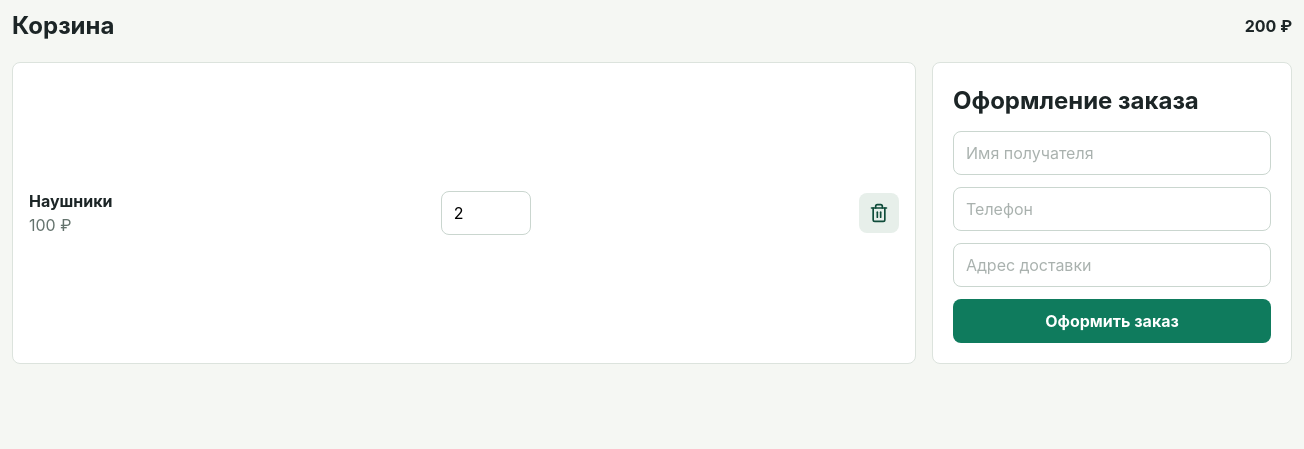
Test: CartPage › проверяет данные заказа перед отправкой
Step 1. Click the button "Оформить заказ" → (1112, 321), box [953,299,1271,343]
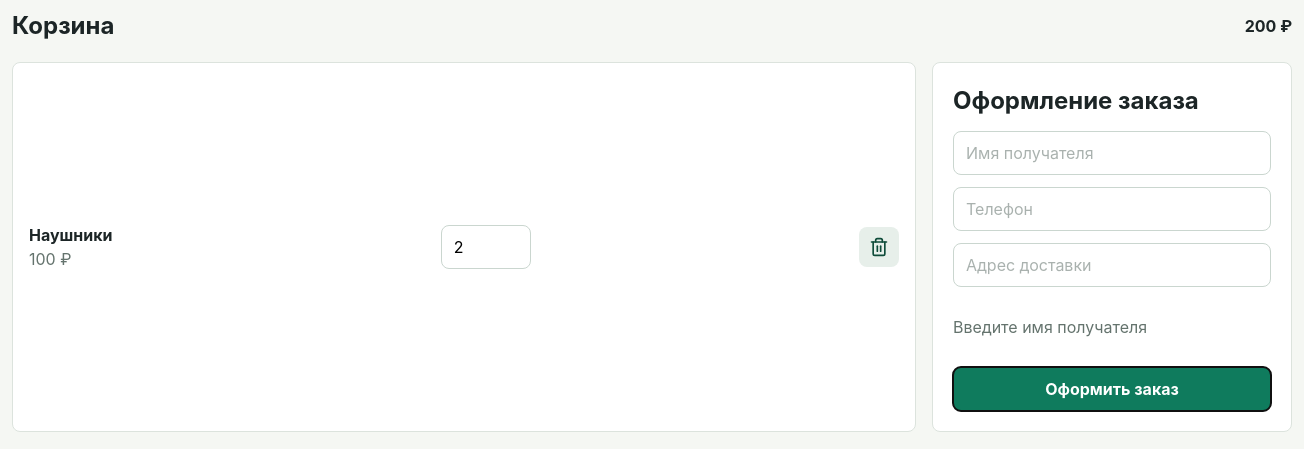
expect the text "Введите имя получателя" is shown: met, box [953,317,1147,337]
